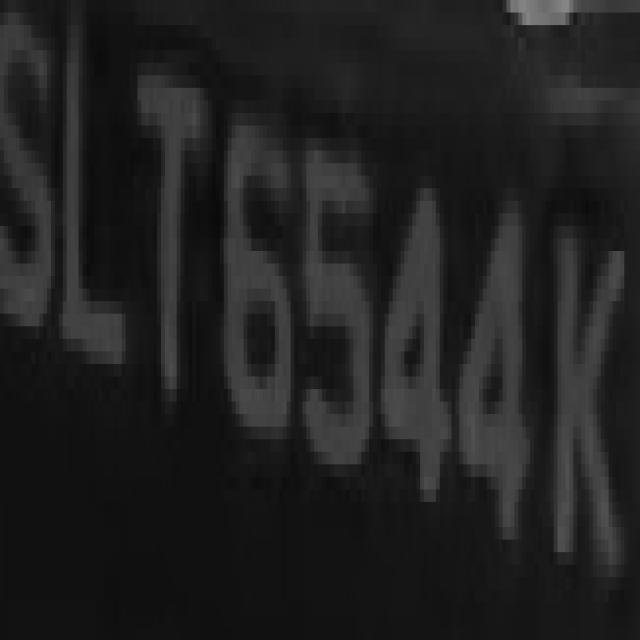4: (369, 126, 456, 564), (452, 163, 534, 577)
5: (291, 63, 373, 552)
6: (224, 63, 298, 502)
K: (542, 188, 624, 590)
L: (51, 38, 130, 414)
S: (0, 25, 63, 377)
T: (122, 38, 212, 452)
